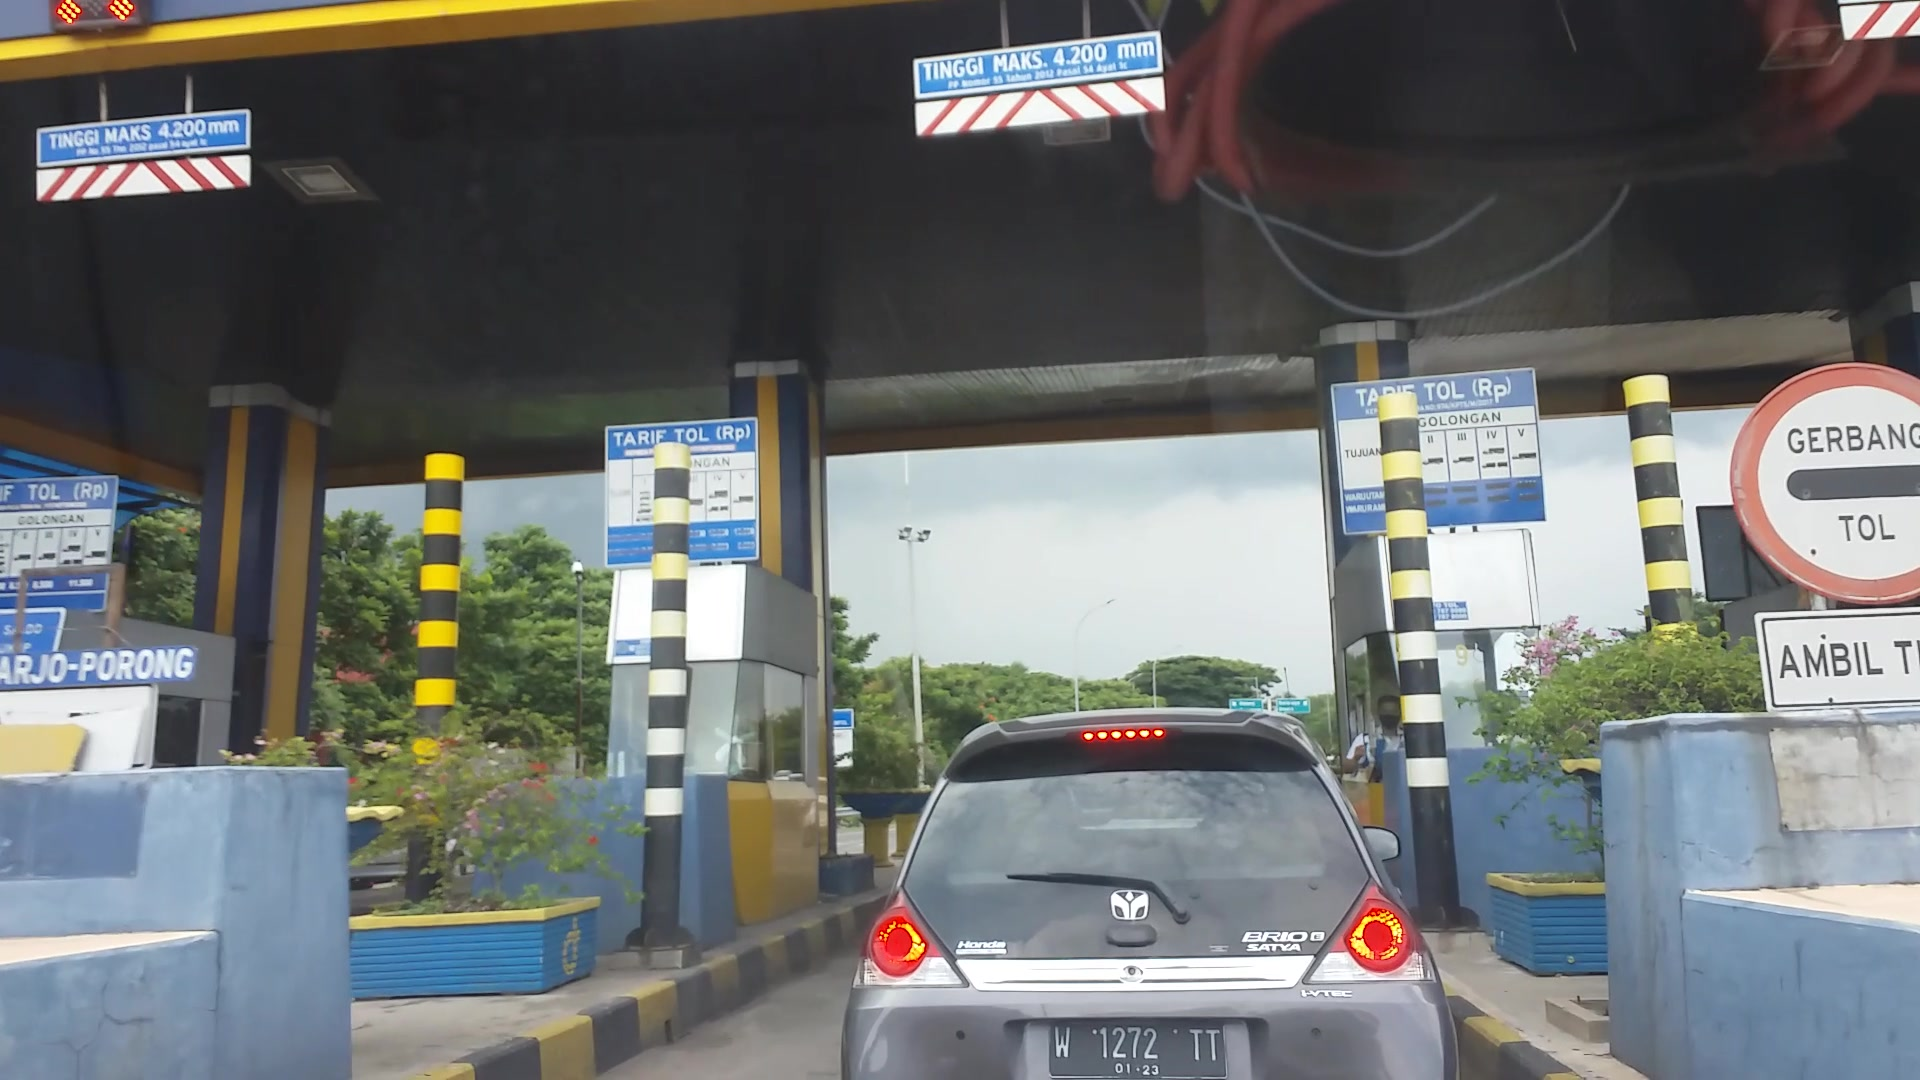plate_positive: (1050, 1018, 1226, 1077)
